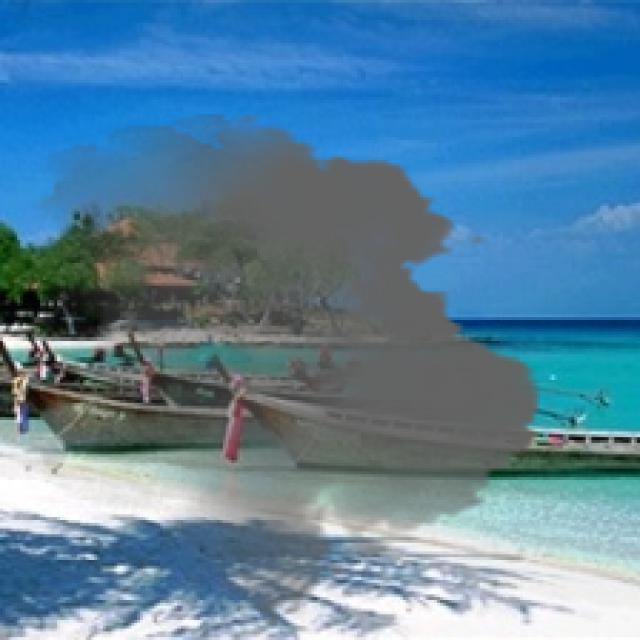Smoke: (14, 114, 560, 629)
